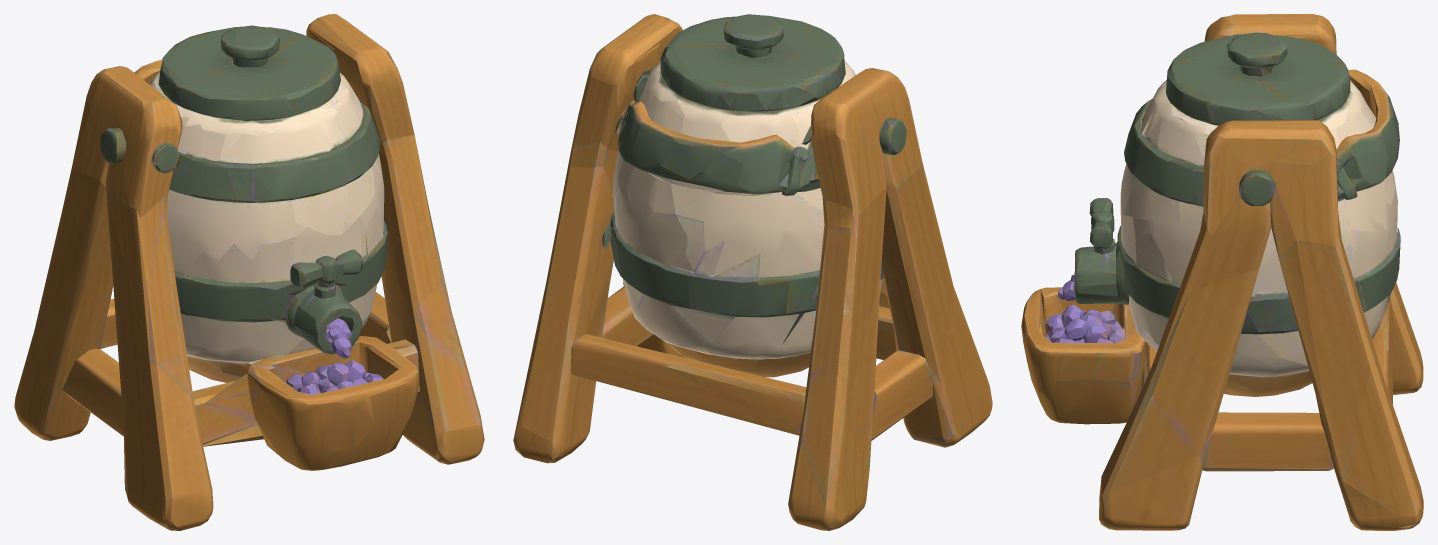
File: keg.glb
The picture shows the model from 3 angles, left to right: view 1: azimuth 30°, elevation 25°; view 2: azimuth 150°, elevation 25°; view 3: azimuth 270°, elevation 25°; orthographic projection.
Parts seen in each view (by area): view 1: Mesh_0; view 2: Mesh_0; view 3: Mesh_0.
Part boxes in pixels (x1,y1,x2,y2): Mesh_0: (14,14,484,530); Mesh_0: (513,14,992,530); Mesh_0: (1021,14,1423,530).
Size of the model in its own units: 0.6611 by 0.7932 by 0.7.
1 material, 1 textured.
